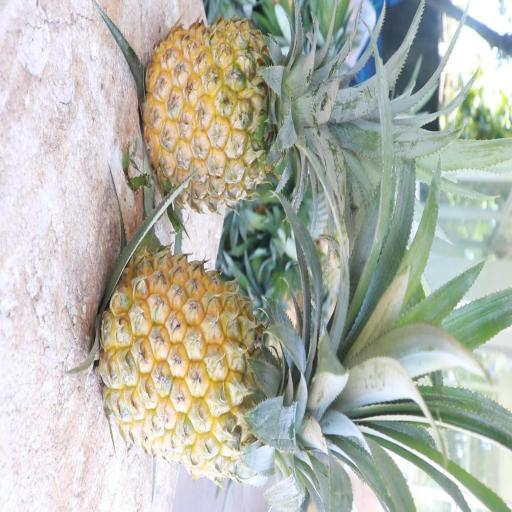Pineapple - v8 v1: (95, 245, 356, 486), (138, 16, 348, 218)
